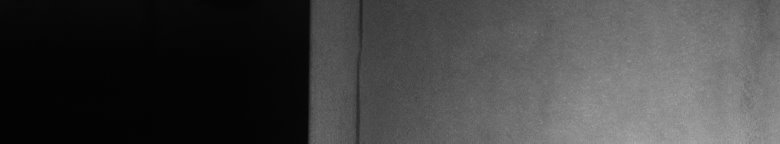hd: (348, 4, 364, 136)
